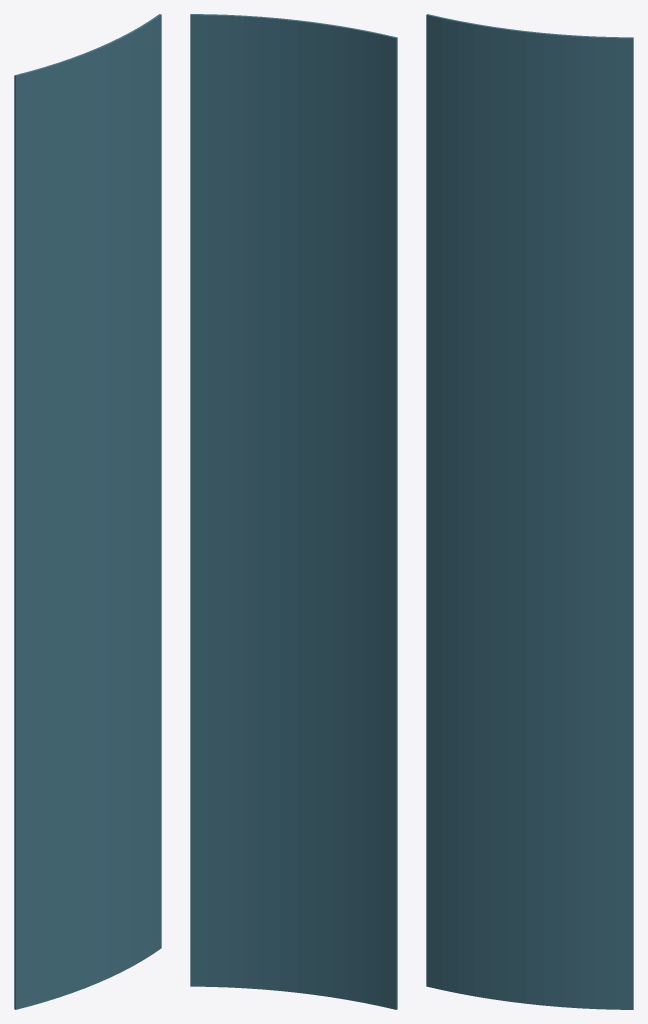
File: SM_Lab_ReactorGlass__Glass_09.fbx
The picture shows the model from 3 angles, left to right: view 1: azimuth 30°, elevation 25°; view 2: azimuth 150°, elevation 25°; view 3: azimuth 330°, elevation 25°; orthographic projection. The views are drawn at different scales.
Visible parts, largest first — view 1: SM_Lab_ReactorGlass__Glass_09; view 2: SM_Lab_ReactorGlass__Glass_09; view 3: SM_Lab_ReactorGlass__Glass_09.
Part boxes in pixels (x1,y1,x2,y2): SM_Lab_ReactorGlass__Glass_09: (14, 14, 161, 1009); SM_Lab_ReactorGlass__Glass_09: (190, 14, 397, 1009); SM_Lab_ReactorGlass__Glass_09: (426, 14, 633, 1009).
Size of the model in its own units: 101 by 28.16 by 523.
